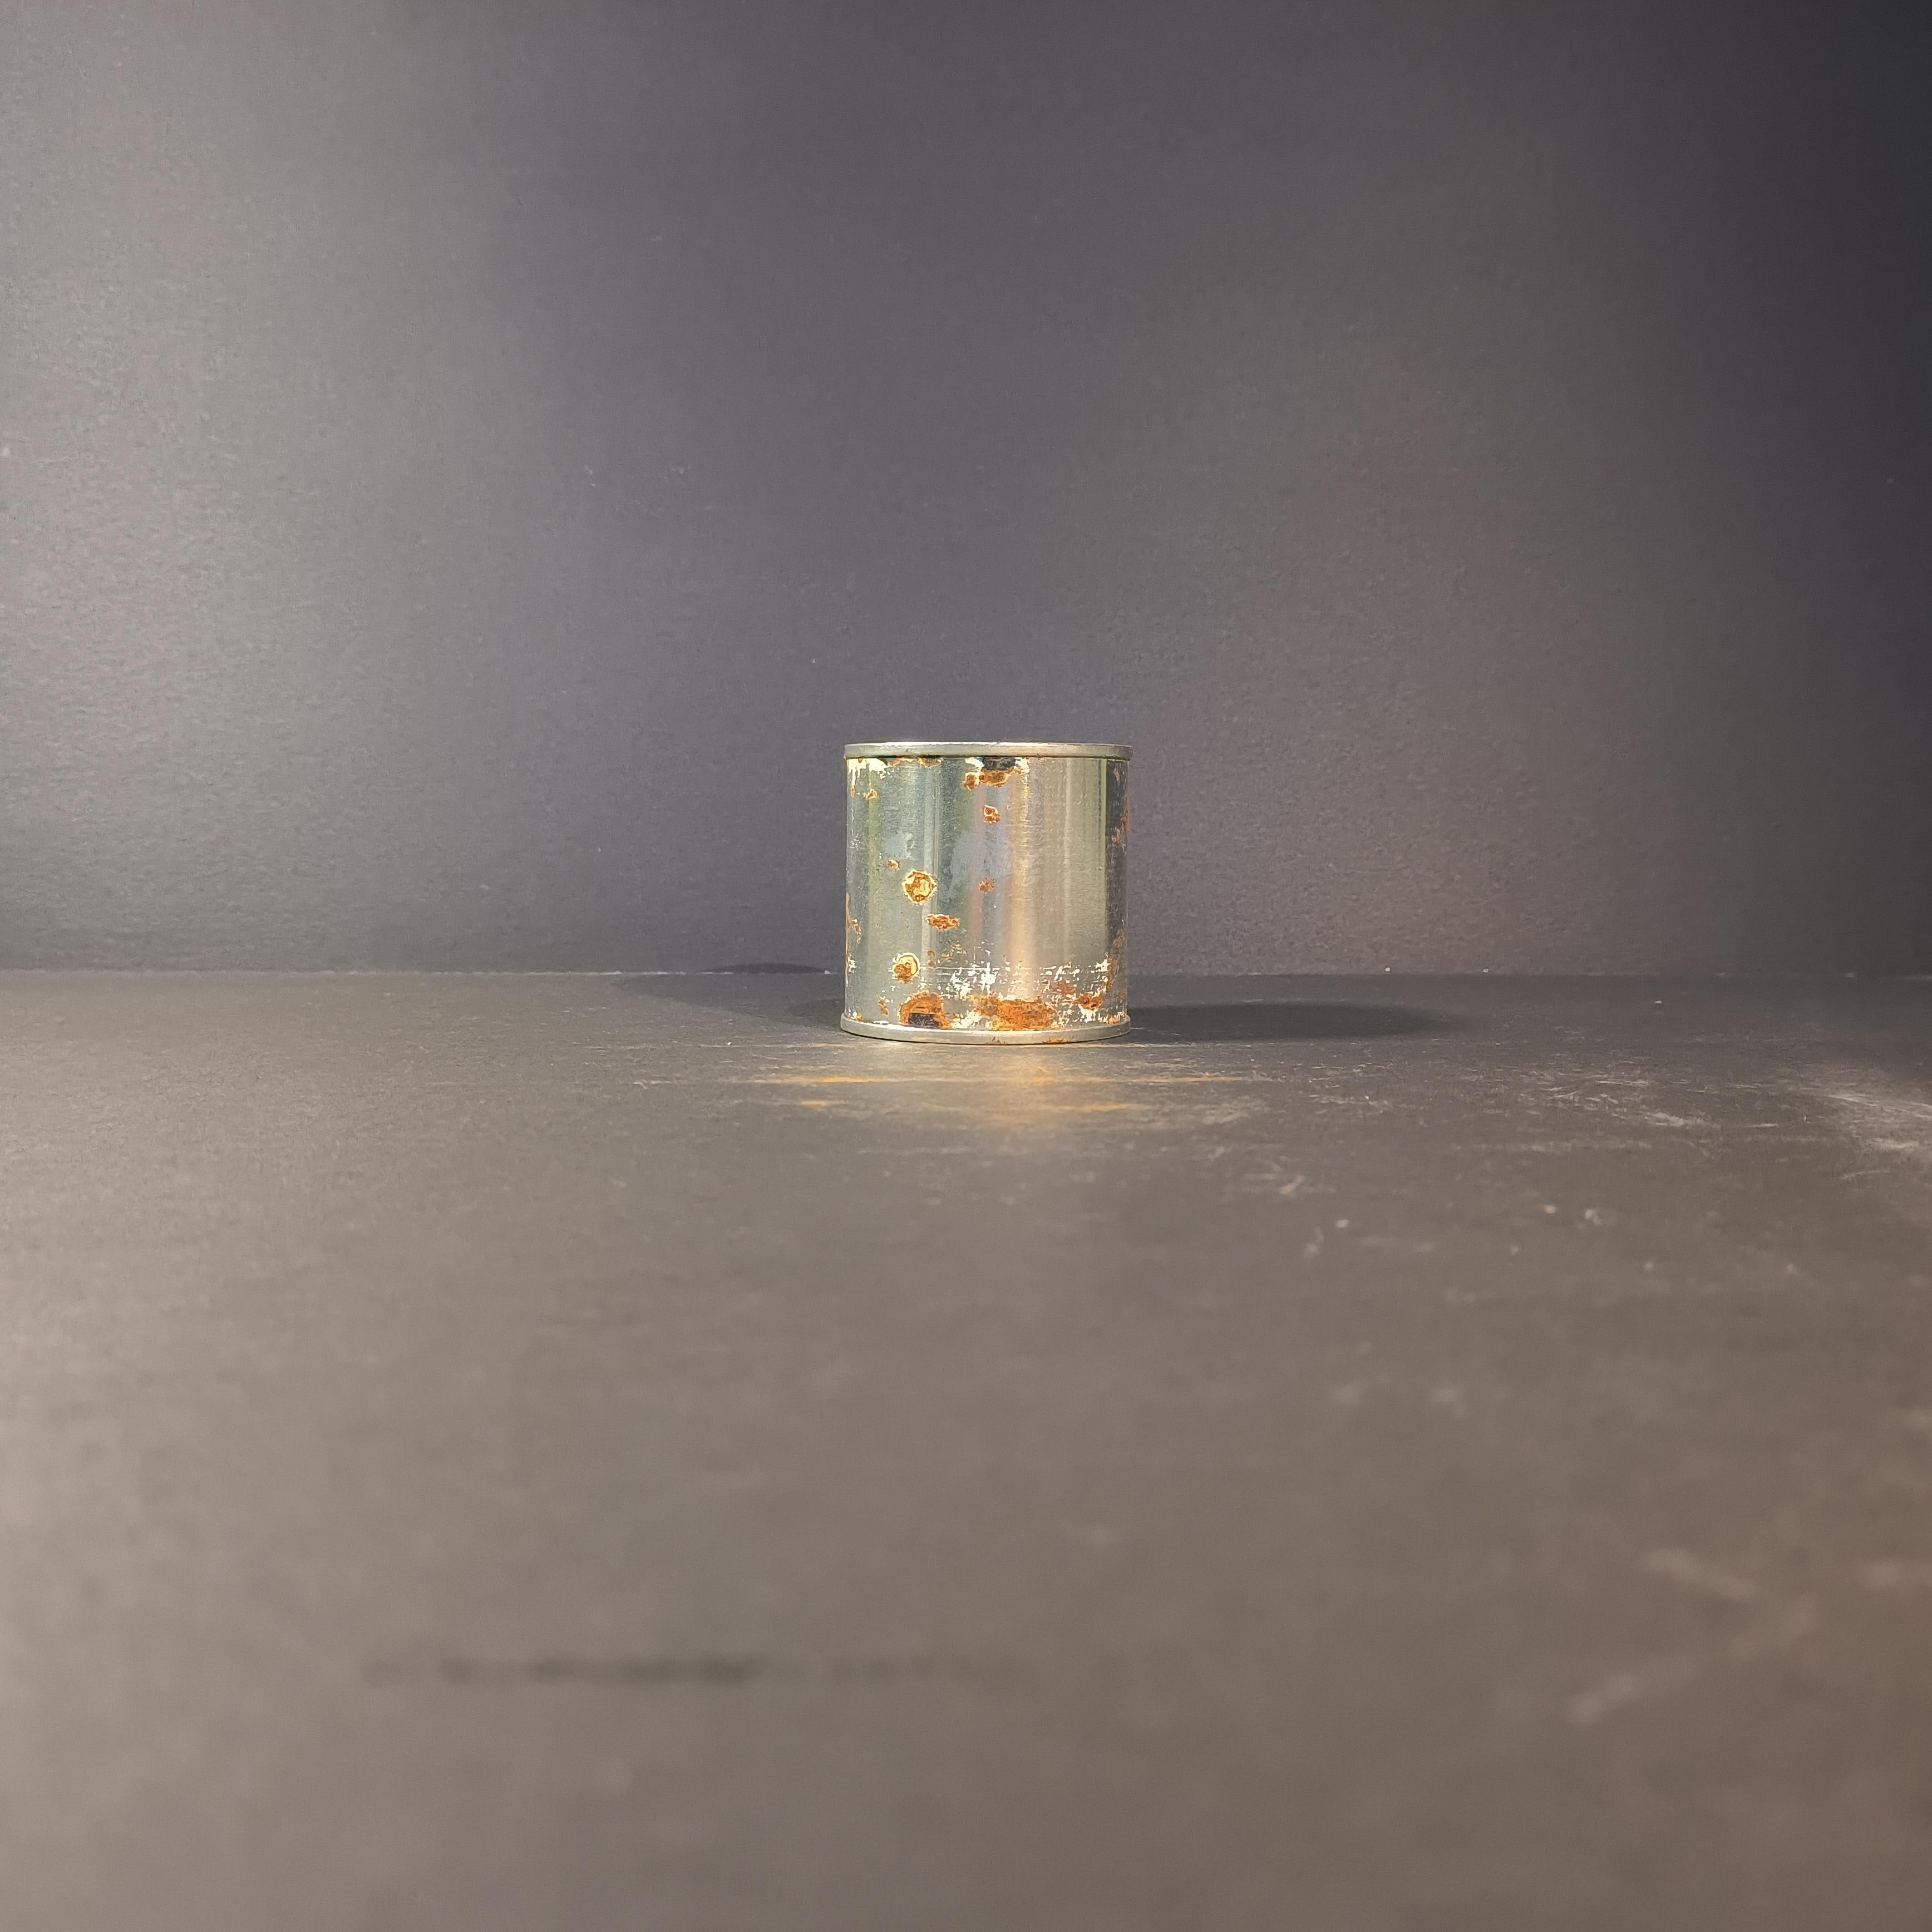Rusted: (821, 720, 1157, 1058)
